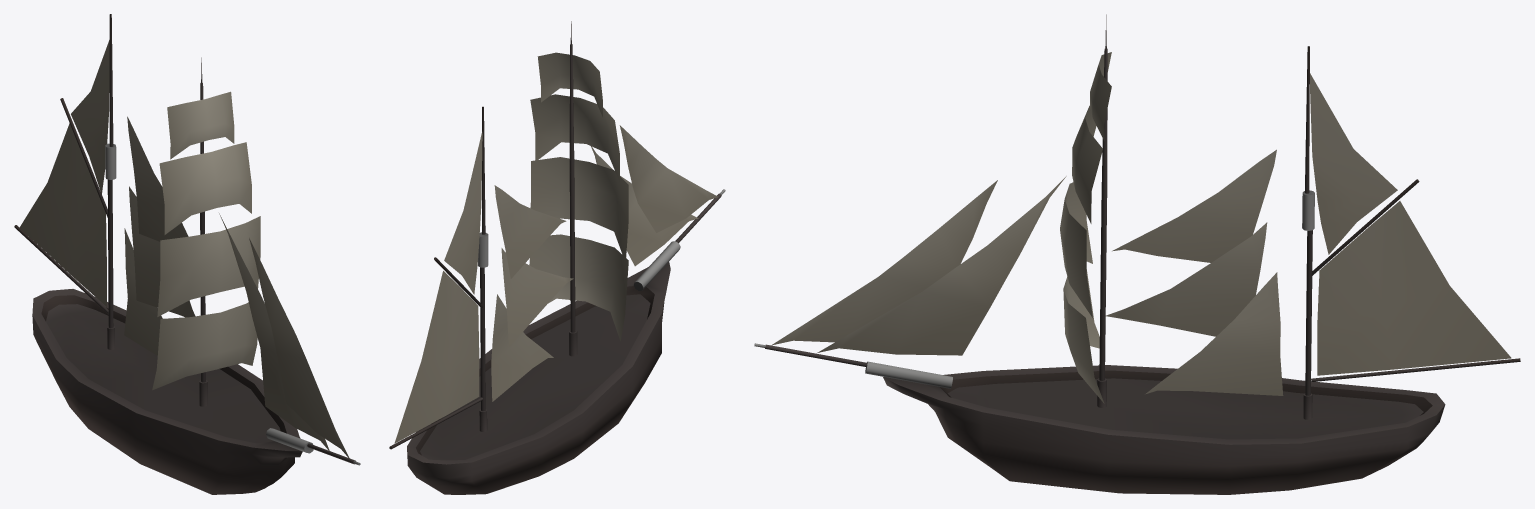
3 views of the same model, side by side, from view 1: azimuth 30°, elevation 25°; view 2: azimuth 150°, elevation 25°; view 3: azimuth 270°, elevation 25° (orthographic). The views are drawn at different scales.
Visible parts, largest first — view 1: Dblsided.001; view 2: Dblsided.001; view 3: Dblsided.001.
Boxes of the visible parts, x1=… form: Dblsided.001: x1=14, y1=14, x2=360, y2=494; Dblsided.001: x1=389, y1=21, x2=725, y2=494; Dblsided.001: x1=754, y1=14, x2=1520, y2=494.
Size of the model in its own units: 0.1135 by 0.3237 by 0.5.
